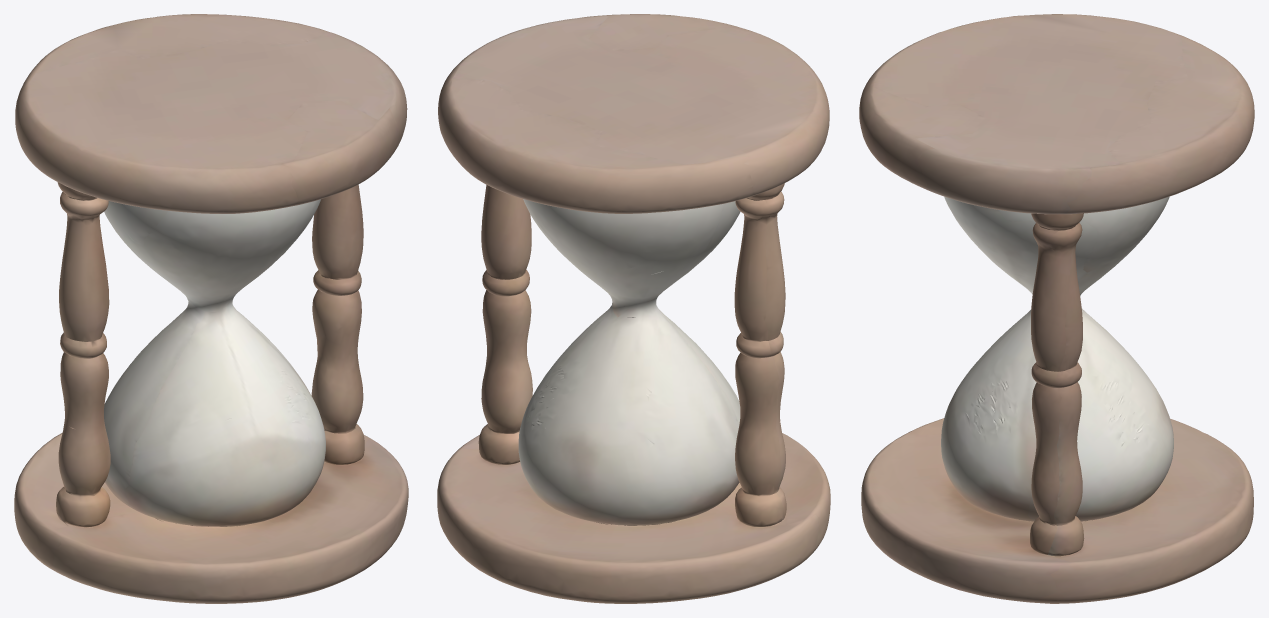
Rendered from prop-hourglass.glb.
3 views of the same model, side by side, from view 1: azimuth 30°, elevation 25°; view 2: azimuth 150°, elevation 25°; view 3: azimuth 270°, elevation 25° (orthographic).
Parts seen in each view (by area): view 1: model; view 2: model; view 3: model.
Part boxes in pixels (x1,y1,x2,y2): model: (14, 14, 408, 603); model: (437, 14, 830, 603); model: (859, 14, 1254, 603).
Bounding box in the file's own units: 1.54 × 1.88 × 1.54.
Materials: 1 (1 with a texture image).
